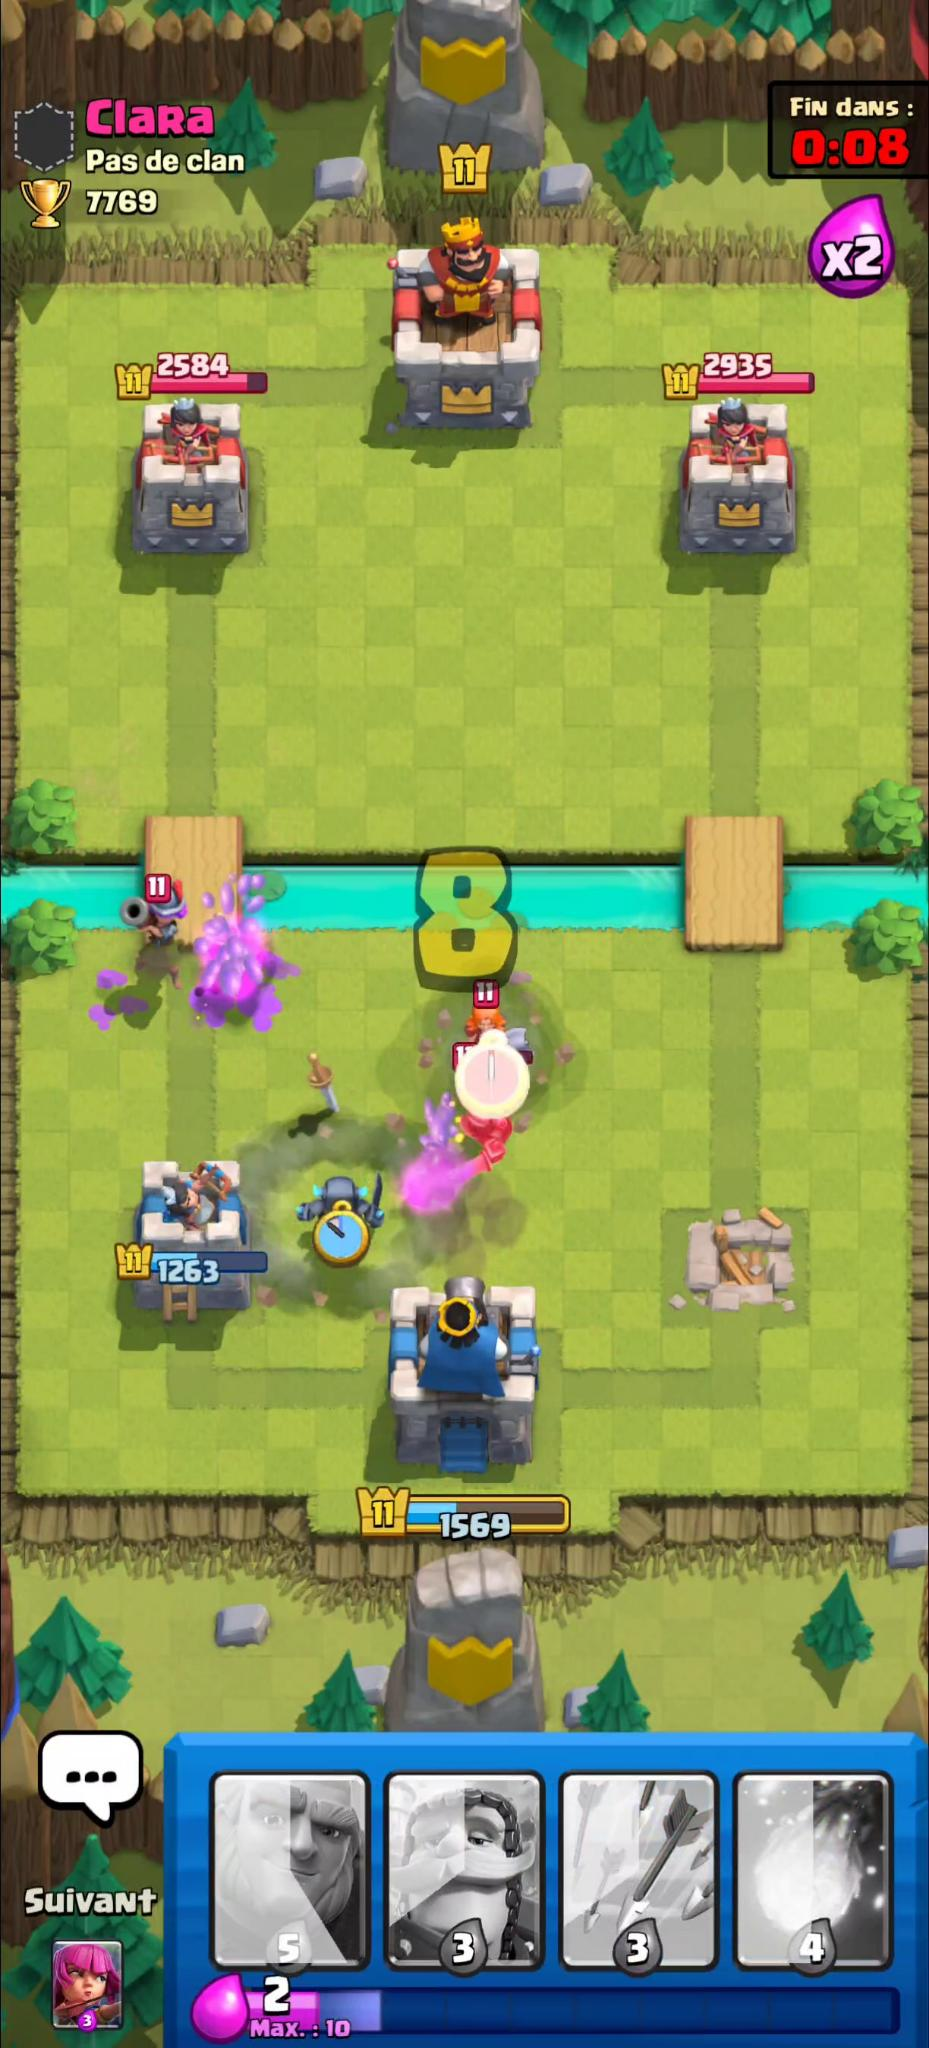mini_PEKKA: (289, 1174, 391, 1236)
mousquetaire: (122, 879, 191, 993)
valkyrie: (461, 999, 541, 1054)
